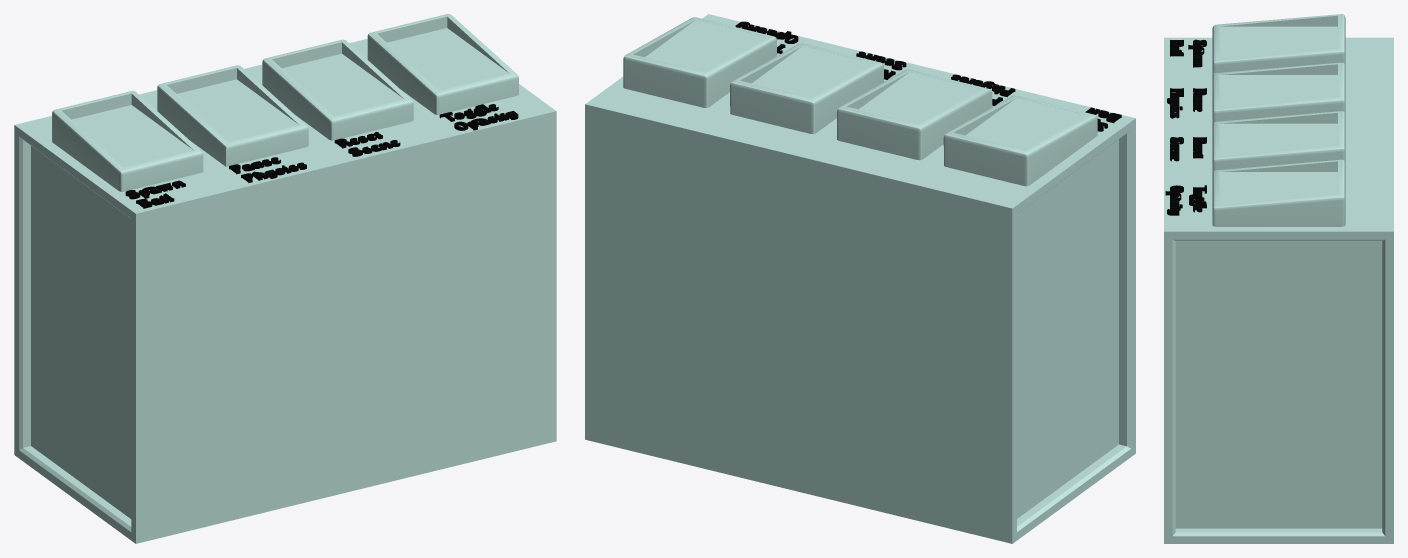
The model's file is ControlTable.fbx.
3 renders of one model, left to right at view 1: azimuth 30°, elevation 25°; view 2: azimuth 150°, elevation 25°; view 3: azimuth 270°, elevation 25°, orthographic. The views are drawn at different scales.
Parts seen in each view (by area): view 1: Table_Control; view 2: Table_Control; view 3: Table_Control.
Part boxes in pixels (x1,y1,x2,y2): Table_Control: [14, 14, 556, 543]; Table_Control: [585, 14, 1135, 543]; Table_Control: [1164, 14, 1393, 543].
Size of the model in its own units: 200 by 164 by 100.
